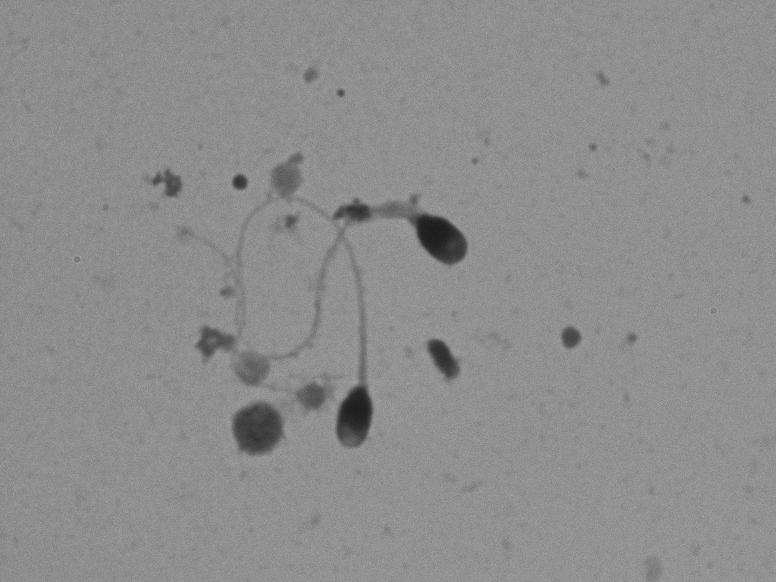Abnormal: (214, 187, 489, 367)
Normal: (161, 177, 388, 458)
